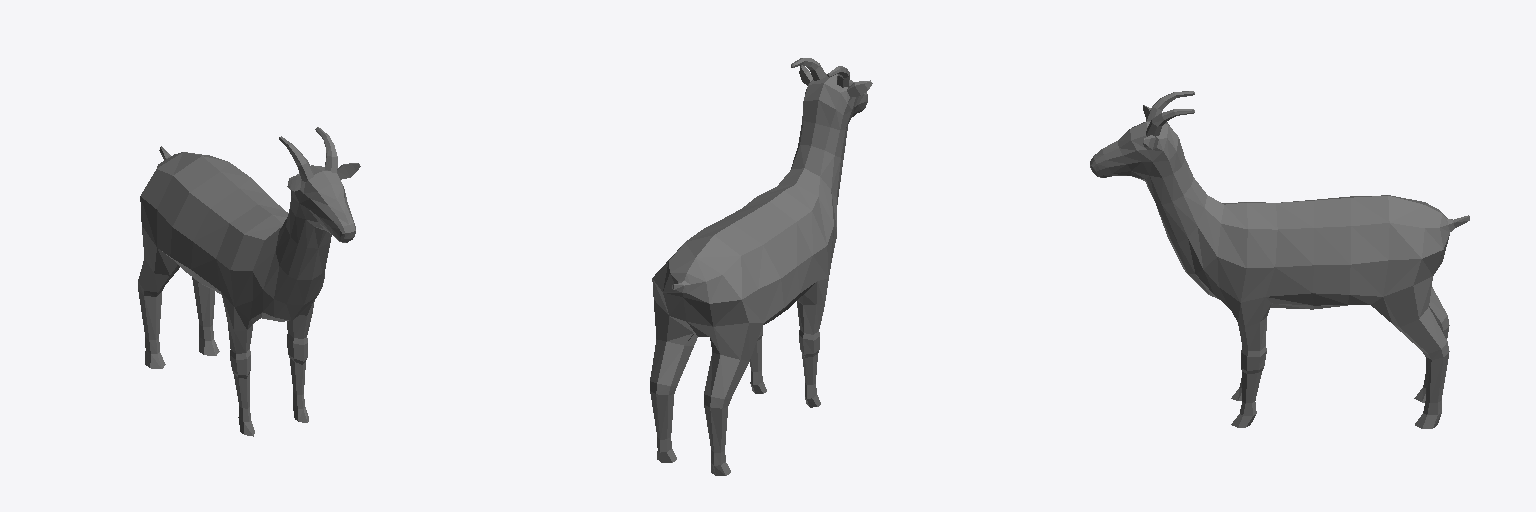
Rendered from Goat_Poitou.obj.
The picture shows the model from 3 angles: view 1: azimuth 30°, elevation 25°; view 2: azimuth 150°, elevation 25°; view 3: azimuth 270°, elevation 25°; orthographic projection.
Parts seen in each view (by area): view 1: Goat_mesh; view 2: Goat_mesh; view 3: Goat_mesh.
Part boxes in pixels (bbox=[...]): Goat_mesh: bbox=[138, 127, 360, 436]; Goat_mesh: bbox=[650, 58, 872, 475]; Goat_mesh: bbox=[1090, 91, 1469, 428].
Size of the model in its own units: 2.26 by 6.6 by 7.31.